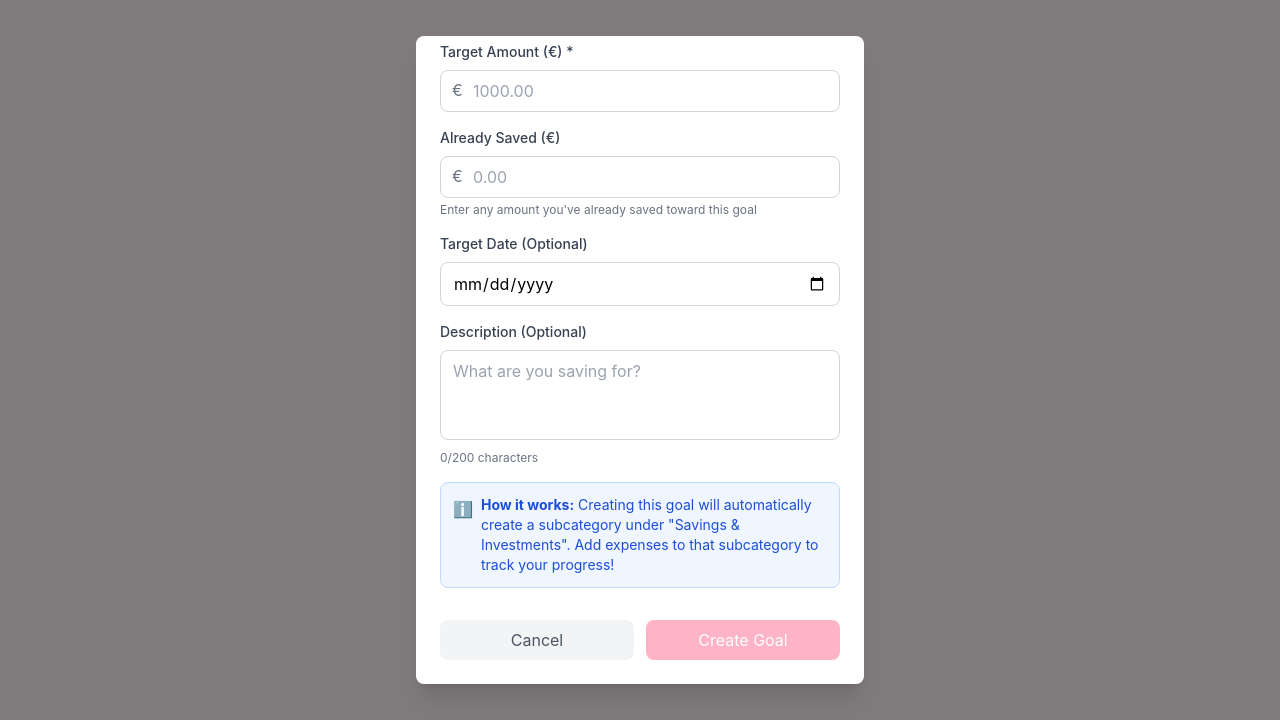
Test: CreateGoalModal › Input Validation › shows error when name is empty on submit
The image size is (1280, 720).
(page scrolled)
Click the button "Create Goal".
click(743, 640)  # box [646,620,840,660]
(page scrolled)
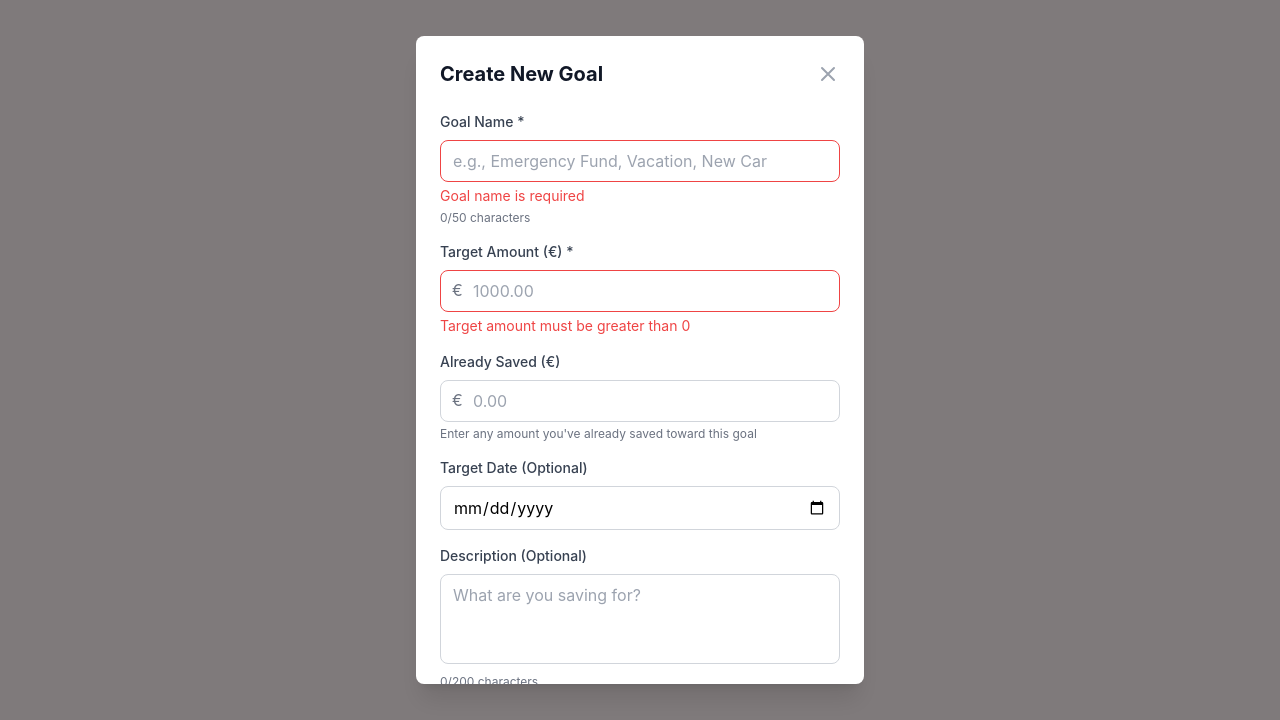
Check: the text "Goal name is required" is shown, box [440,187,585,204]
